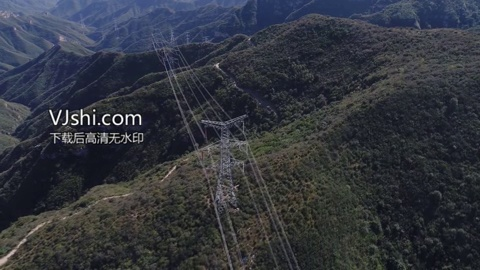tower_body: (200, 112, 252, 211)
tower_foot: (209, 177, 237, 207)
tower_head: (203, 115, 248, 128)
